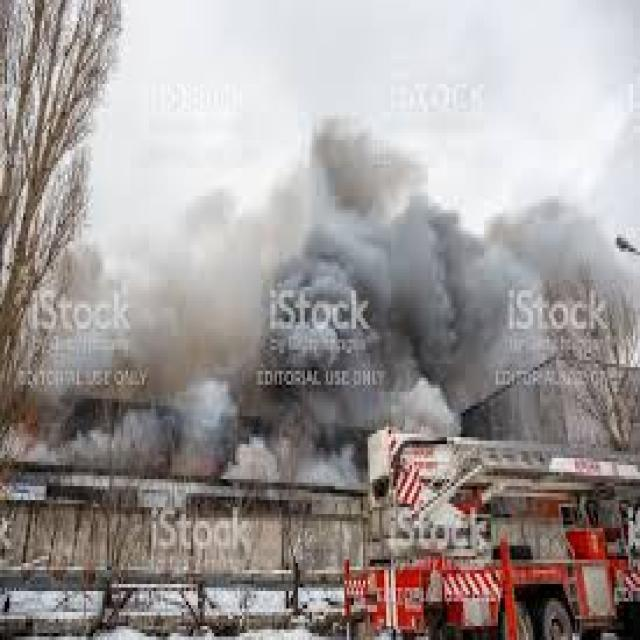Smoke: (7, 115, 638, 462)
